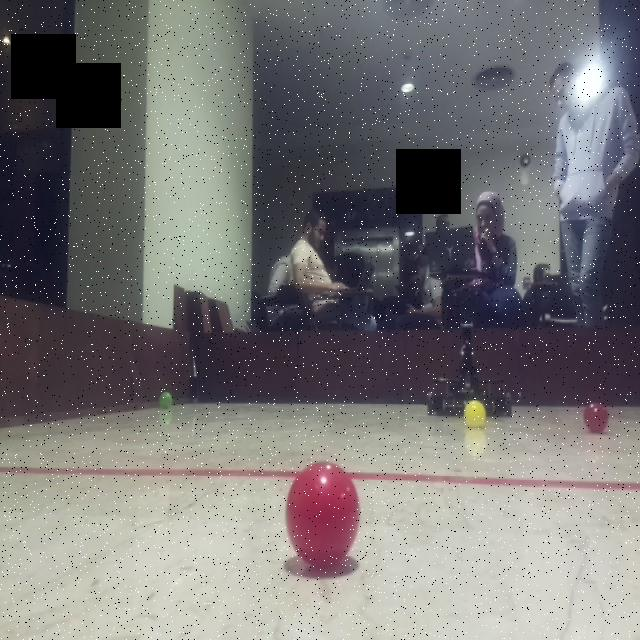ball: (284, 459, 362, 575), (457, 394, 490, 431), (581, 398, 614, 435), (155, 388, 178, 412)
